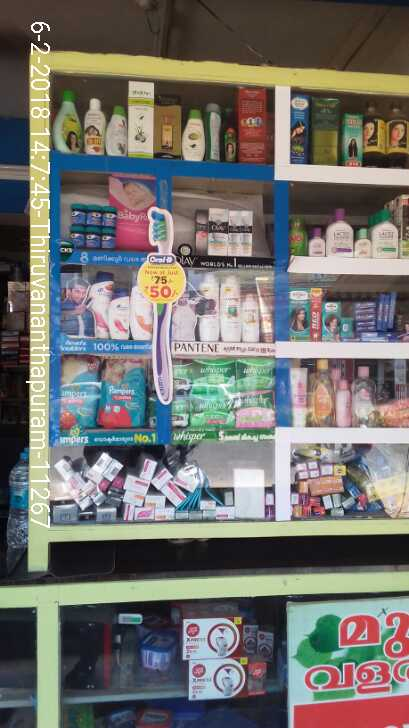vicks: (73, 201, 118, 247)
